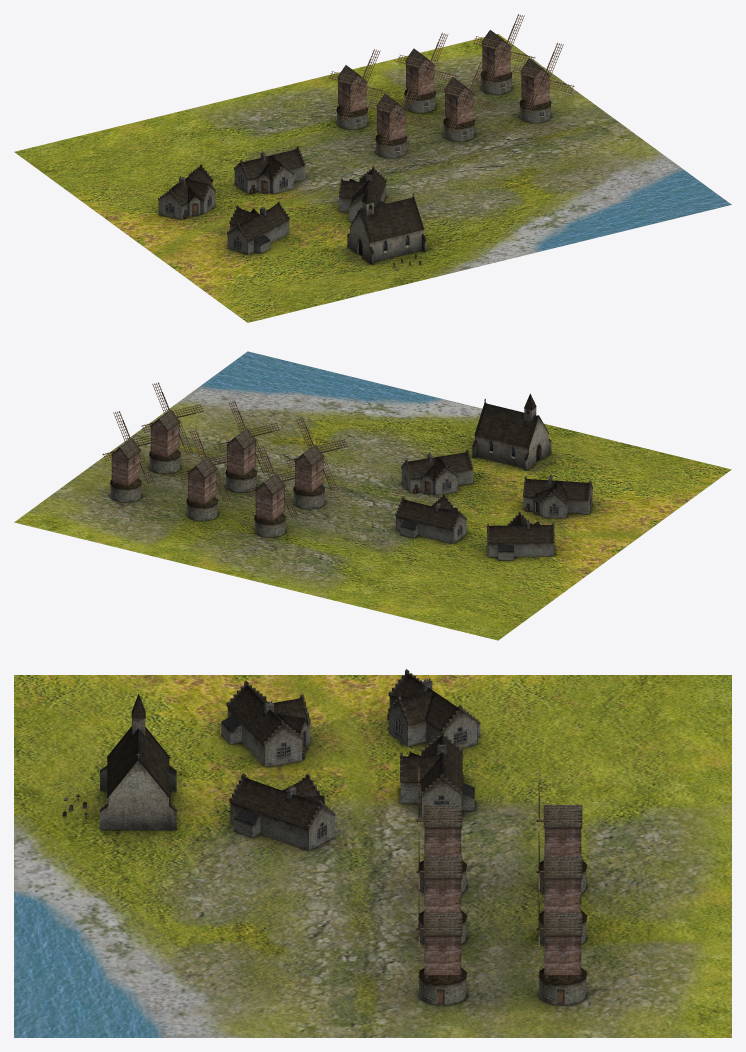
File: medieval scene.dae
3 renders of one model, top to bottom at view 1: azimuth 30°, elevation 25°; view 2: azimuth 150°, elevation 25°; view 3: azimuth 270°, elevation 25°, orthographic. The views are drawn at different scales.
Parts seen in each view (by area): view 1: Plane01, Chapel, House, House02, WindMillj01, House01, WindMillj02, WindMillj, WindMillj05, WindMillj04, WindMillj03, House03; view 2: Plane01, Chapel, House, House03, House01, House02, WindMillj05, WindMillj02, WindMillj04, WindMillj03, WindMillj, WindMillj01; view 3: Plane01, Chapel, House03, House02, House01, House, WindMillj02, WindMillj04, WindMillj03, WindMillj01, WindMillj, WindMillj05.
Part boxes in pixels (x1=…): Plane01: x1=14, y1=34, x2=731, y2=322; Chapel: x1=347, y1=188, x2=426, y2=270; House: x1=234, y1=146, x2=305, y2=194; House02: x1=227, y1=201, x2=289, y2=254; WindMillj01: x1=436, y1=61, x2=498, y2=141; House01: x1=158, y1=164, x2=215, y2=219; WindMillj02: x1=512, y1=42, x2=574, y2=122; WindMillj: x1=368, y1=78, x2=430, y2=158; WindMillj05: x1=329, y1=49, x2=390, y2=129; WindMillj04: x1=473, y1=14, x2=535, y2=94; WindMillj03: x1=396, y1=32, x2=459, y2=112; House03: x1=339, y1=166, x2=386, y2=221; Plane01: x1=14, y1=351, x2=731, y2=640; Chapel: x1=472, y1=393, x2=551, y2=470; House: x1=395, y1=494, x2=466, y2=543; House03: x1=401, y1=449, x2=473, y2=494; House01: x1=487, y1=511, x2=554, y2=560; House02: x1=523, y1=474, x2=592, y2=518; WindMillj05: x1=246, y1=446, x2=308, y2=537; WindMillj02: x1=141, y1=382, x2=203, y2=473; WindMillj04: x1=102, y1=411, x2=164, y2=502; WindMillj03: x1=178, y1=429, x2=241, y2=520; WindMillj: x1=285, y1=417, x2=347, y2=508; WindMillj01: x1=218, y1=401, x2=280, y2=492; Plane01: x1=14, y1=675, x2=731, y2=1037; Chapel: x1=62, y1=694, x2=176, y2=829; House03: x1=229, y1=773, x2=335, y2=850; House02: x1=221, y1=681, x2=310, y2=767; House01: x1=387, y1=669, x2=480, y2=749; House: x1=400, y1=731, x2=474, y2=817; WindMillj02: x1=416, y1=875, x2=466, y2=1005; WindMillj04: x1=536, y1=875, x2=586, y2=1005; WindMillj03: x1=536, y1=818, x2=587, y2=944; WindMillj01: x1=416, y1=818, x2=466, y2=944; WindMillj: x1=416, y1=767, x2=466, y2=893; WindMillj05: x1=536, y1=767, x2=586, y2=893.
Bounding box in the file's own units: 10286 × 1547 × 8598.
